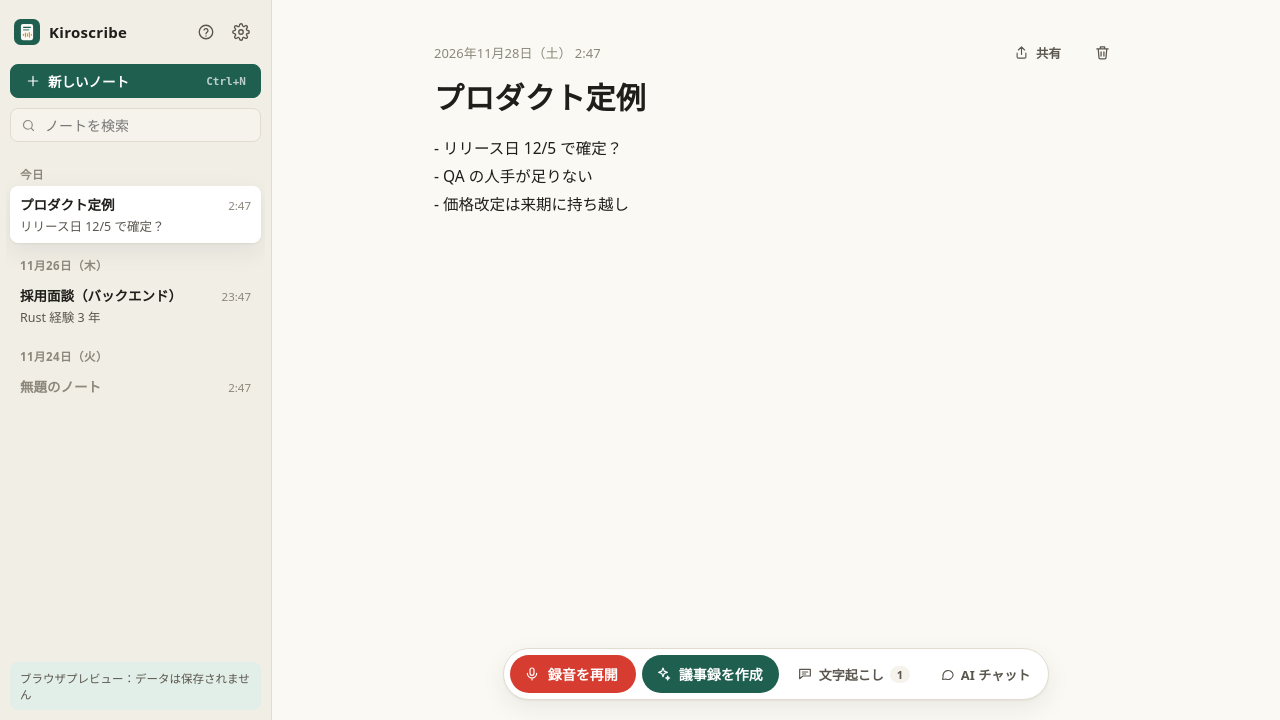
Test: 共有（Markdown 書き出し） › [SHR-001][SHR-007][SHR-008] 議事録がないときはメモを書き出し、文字起こしは選んだときだけ含める
Expected: the field showing "プロダクト定例" is shown, [434,74,1118,121]
Click the button "共有": {"x": 1038, "y": 52} [1003,37,1072,67]
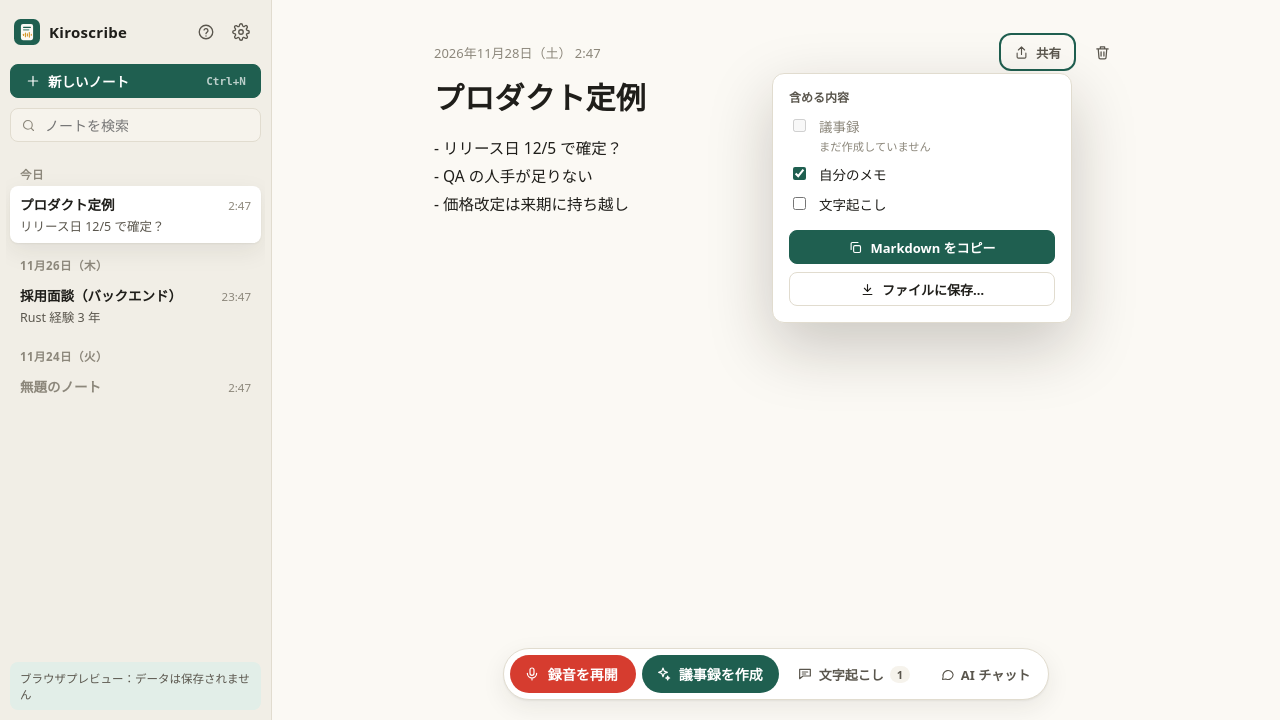
Expected: the checkbox labelled "議事録 まだ作成していません" is disabled, [793,119,806,132]
Expected: the checkbox labelled "自分のメモ" is checked, [793,167,806,180]
Expected: the checkbox labelled "文字起こし" is not checked, [793,197,806,210]
Click the button "Markdown をコピー": {"x": 922, "y": 247} [789,230,1055,264]
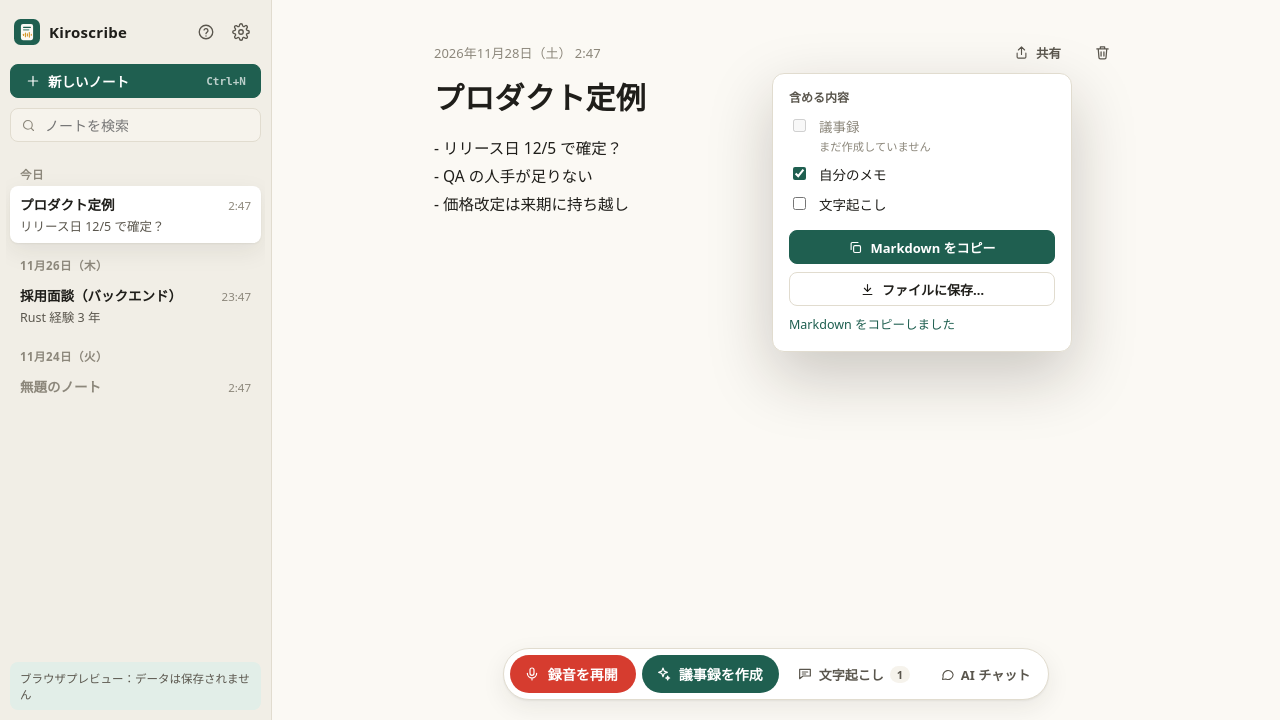
Expected: the message shows "コピーしました", [789,316,955,333]
Click the checkbox labelled "文字起こし": {"x": 800, "y": 204} [793,197,806,210]
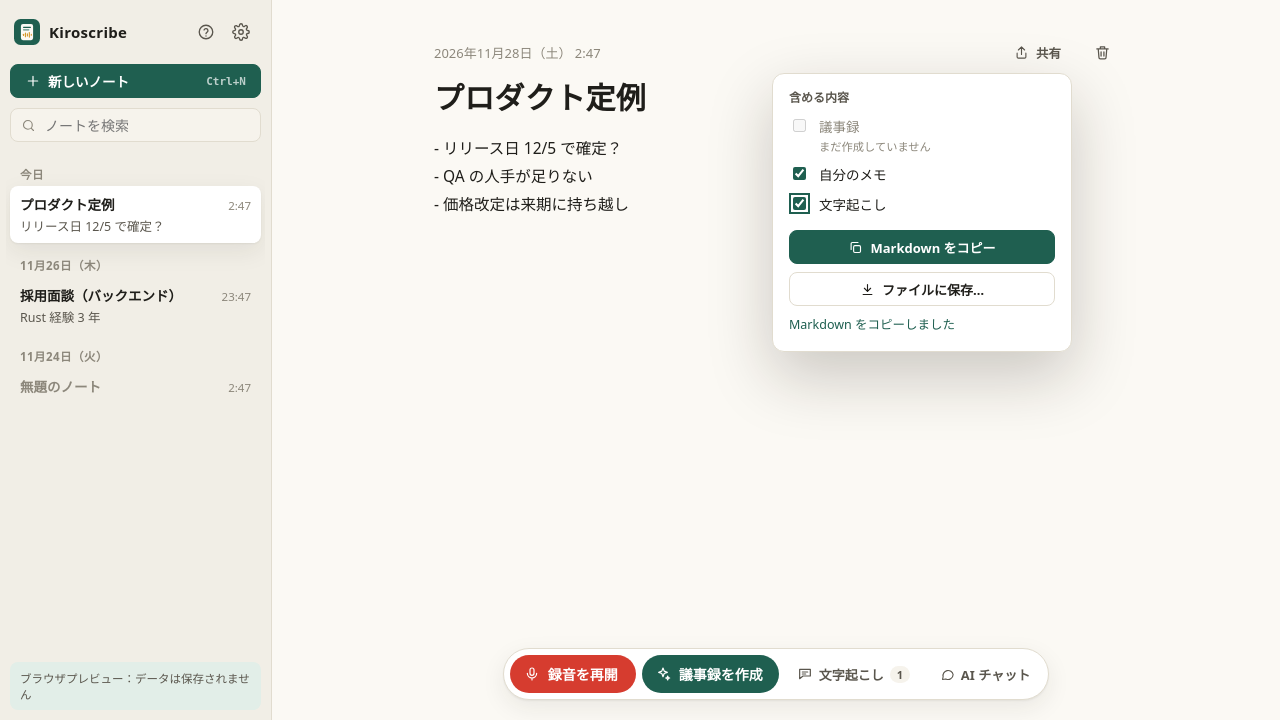
Click the button "ファイルに保存…": {"x": 922, "y": 289} [789,272,1055,306]
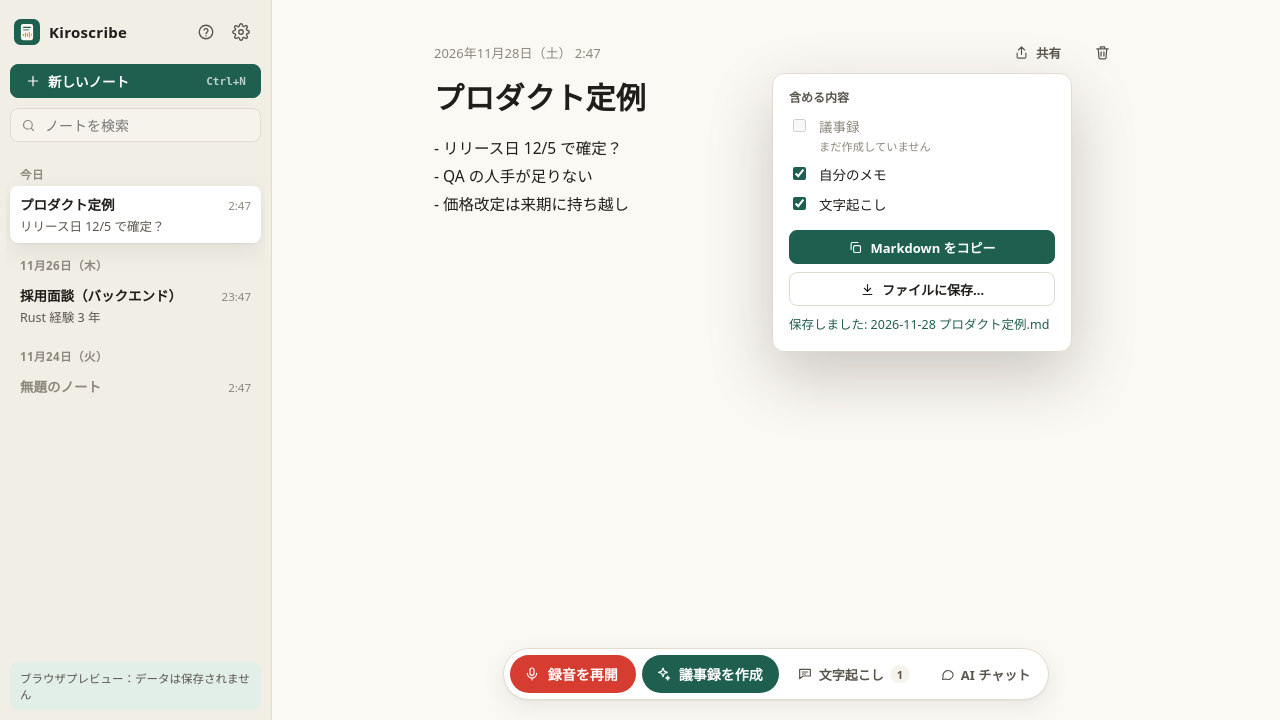
Expected: the message reads "保存しました: 2026-11-28 プロダクト定例.md", [789,316,1049,333]
